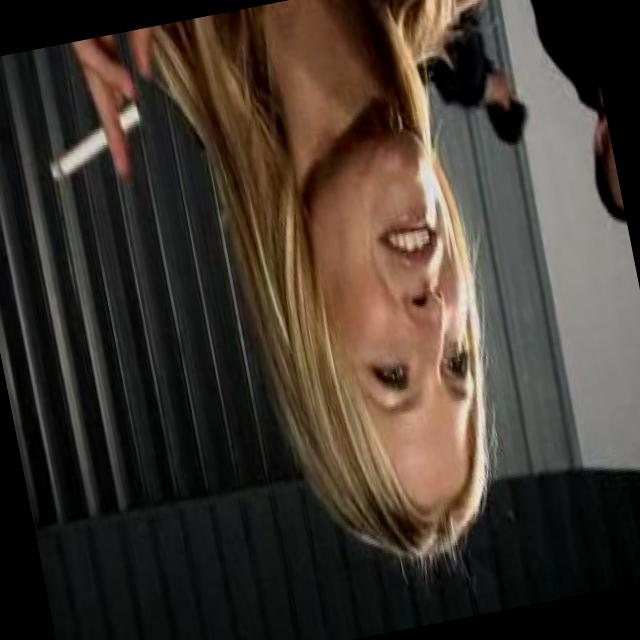cigarette: (22, 77, 156, 209)
